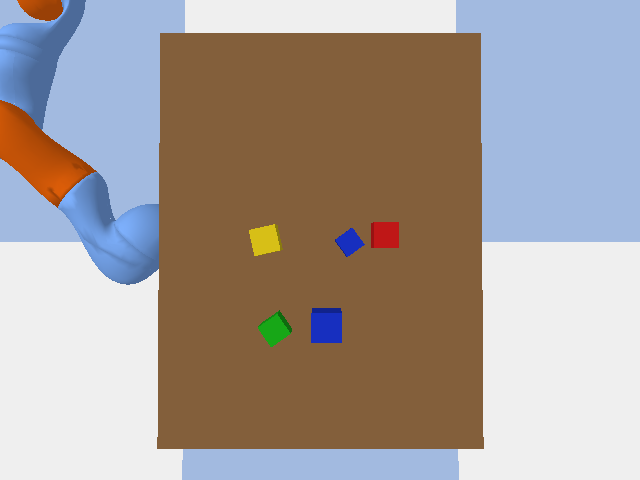blue_obj: (311, 308, 341, 342), (335, 228, 364, 256)
green_obj: (258, 310, 291, 346)
red_obj: (371, 222, 398, 247)
yellow_obj: (249, 224, 282, 255)
